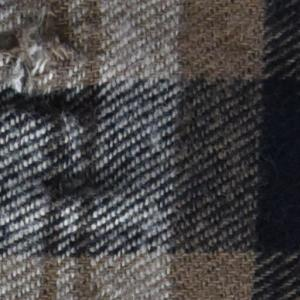Damage: (1, 1, 94, 124)
Stain: (31, 158, 135, 223)
